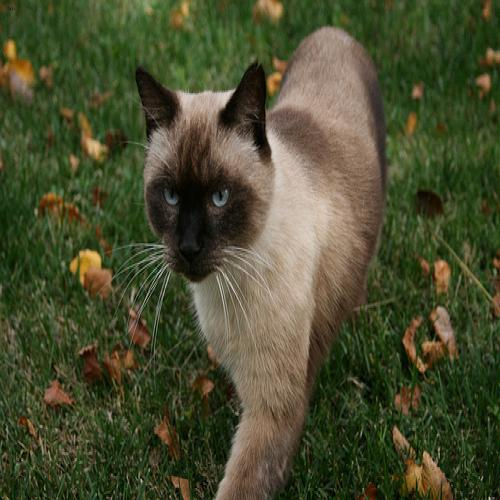siamese: (124, 56, 283, 302)
